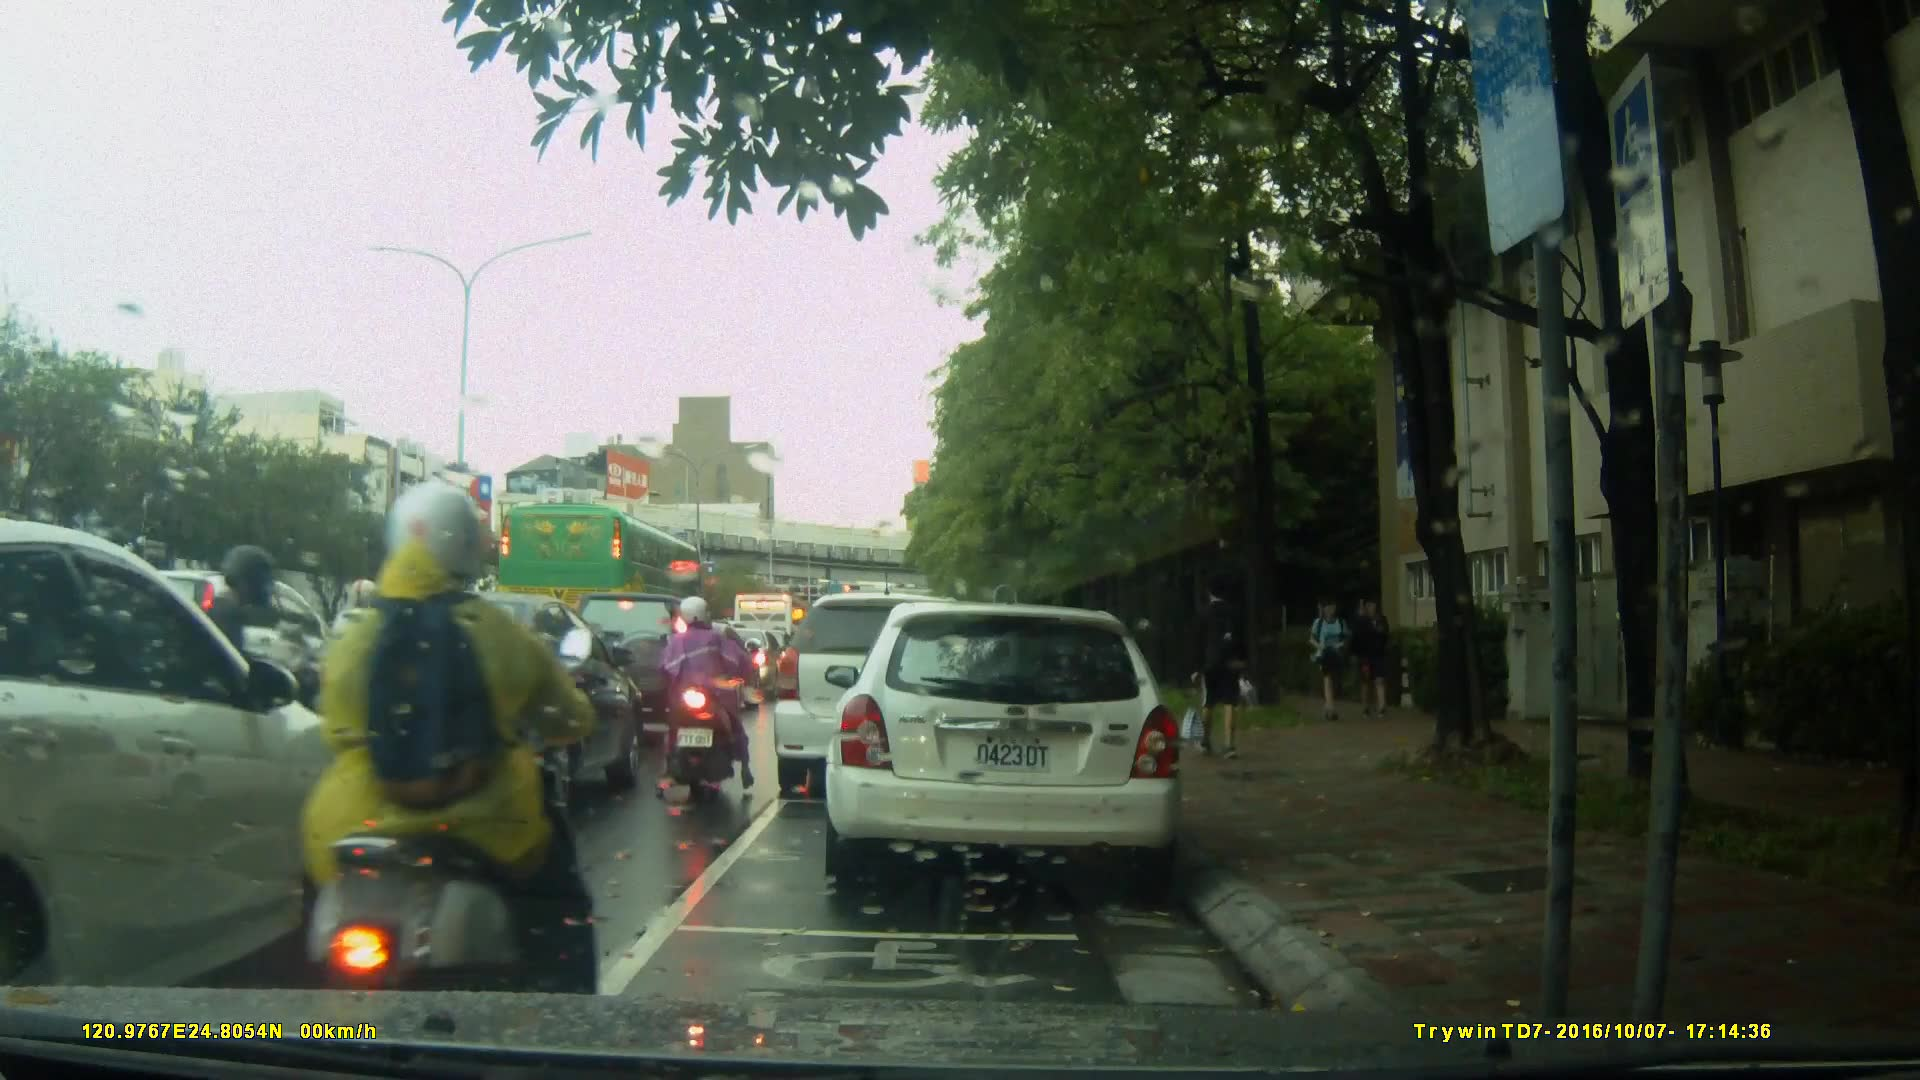pedestrian: (1185, 573, 1252, 762), (1310, 589, 1365, 725), (1348, 593, 1388, 719)
rider: (307, 478, 601, 1055), (159, 548, 378, 859), (661, 592, 757, 798), (313, 576, 404, 744)
vehicle: (1, 519, 375, 985), (831, 592, 1196, 897), (281, 589, 646, 818), (35, 568, 362, 757), (770, 592, 999, 800), (558, 583, 748, 751), (495, 502, 707, 643)
